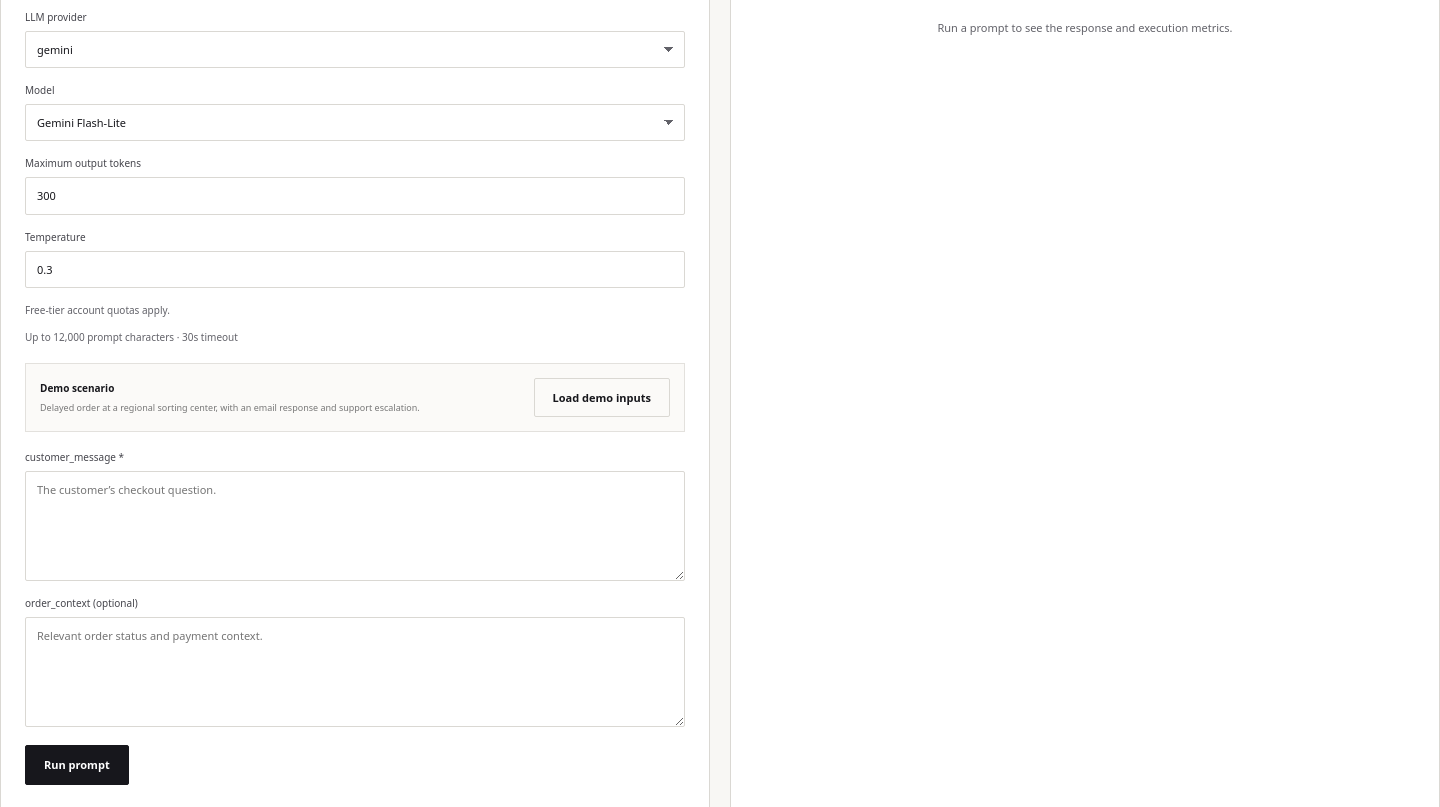
Test: Playground run states › shows budget limit without charging
(page scrolled)
Type "Please check my order" into the text box labelled "customer_message *" at {"x": 355, "y": 526}, box 25,471 -> 685,581
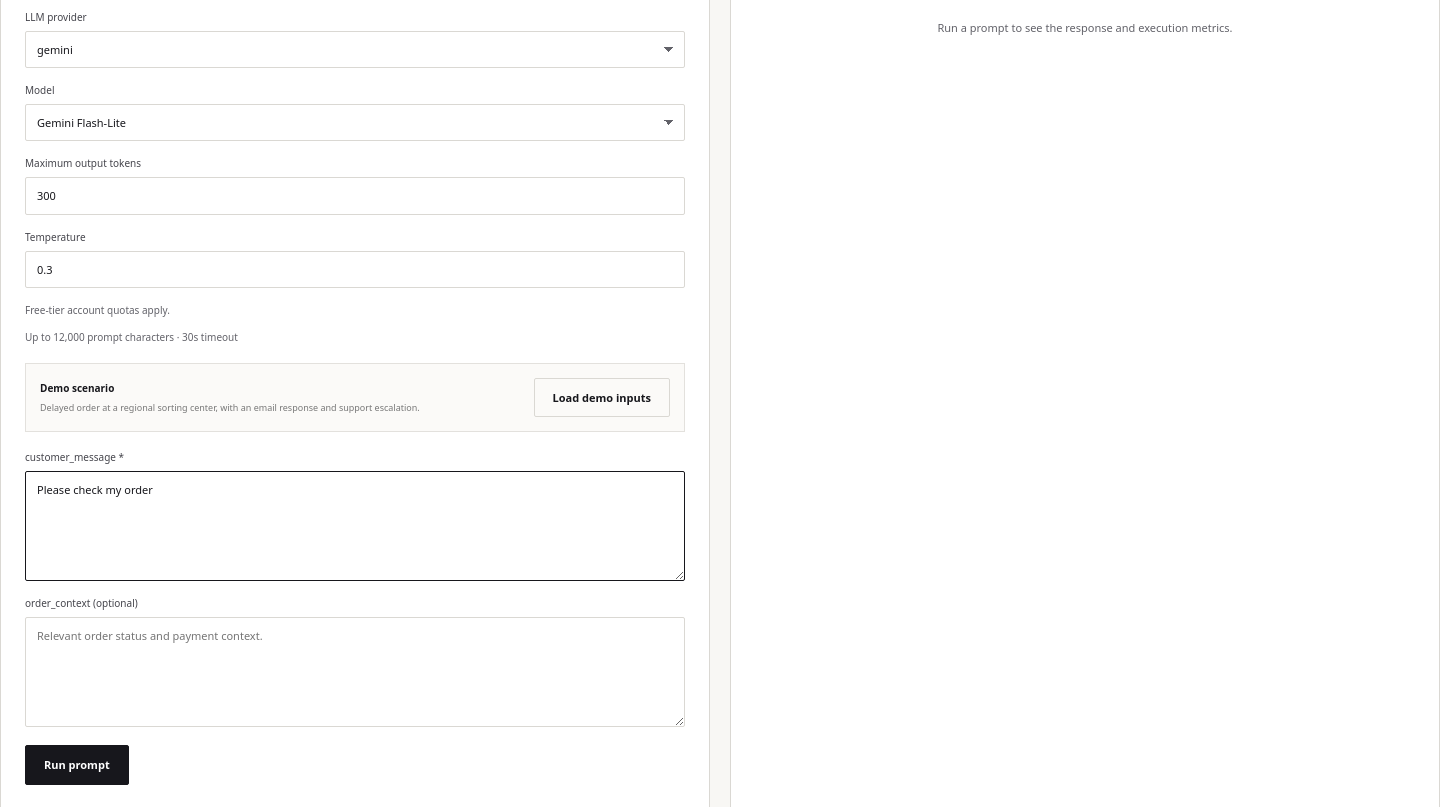
Click the button "Run prompt" at {"x": 77, "y": 765}, box 25,745 -> 129,785
(page scrolled)
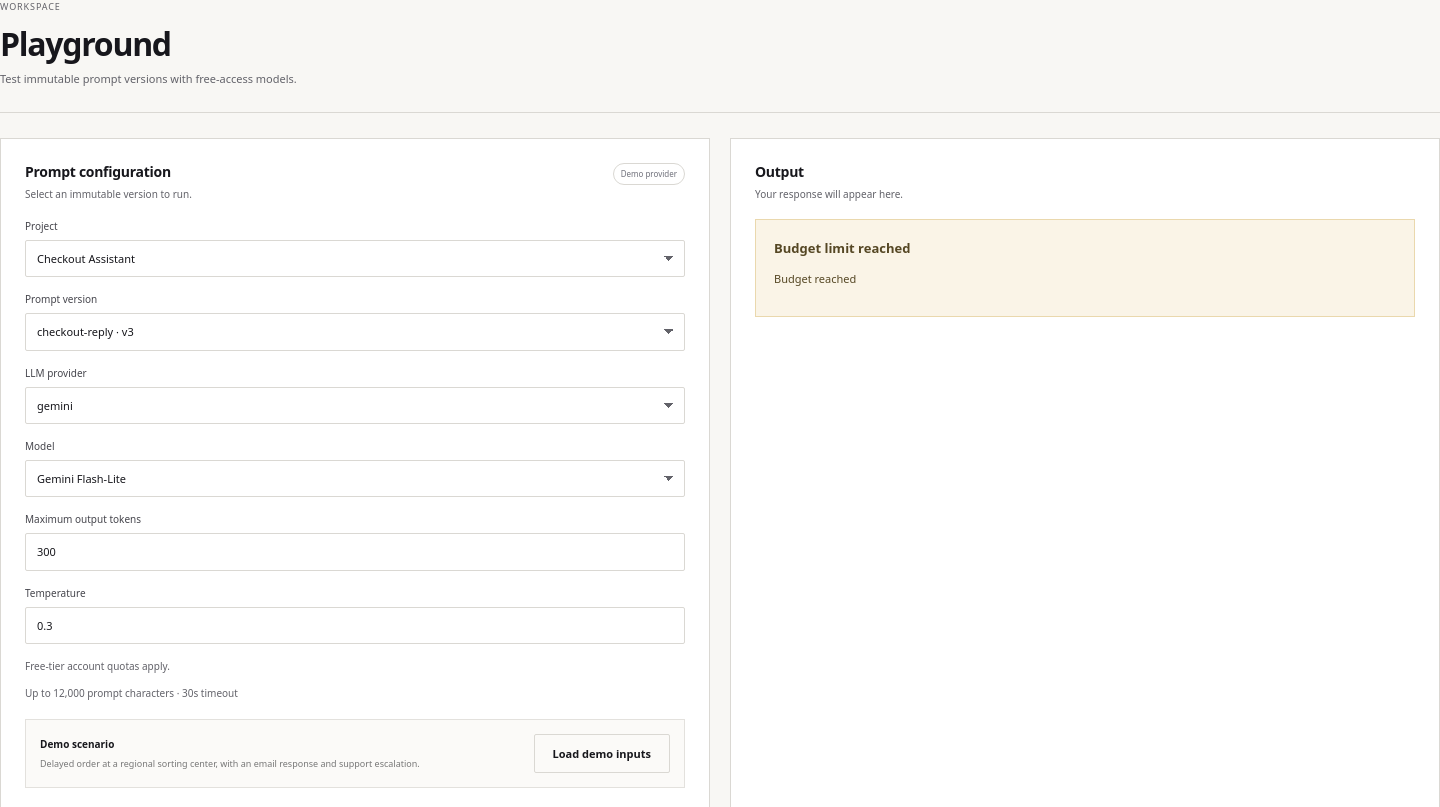
Now the heading "Budget limit reached" is shown, box 774,239 -> 910,257
